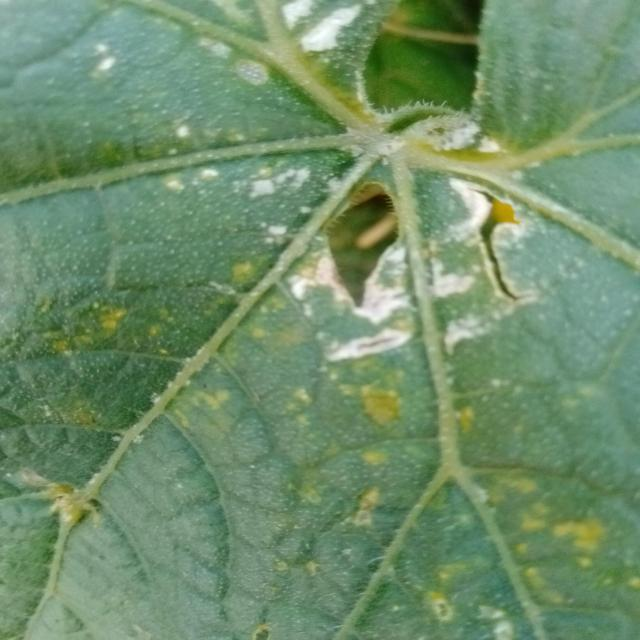cucumber_downy: (51, 50, 618, 606)
